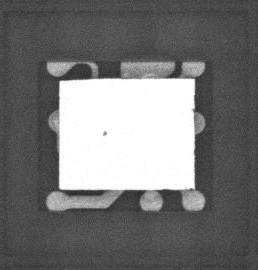DIE_INK: (96, 135, 103, 143)
